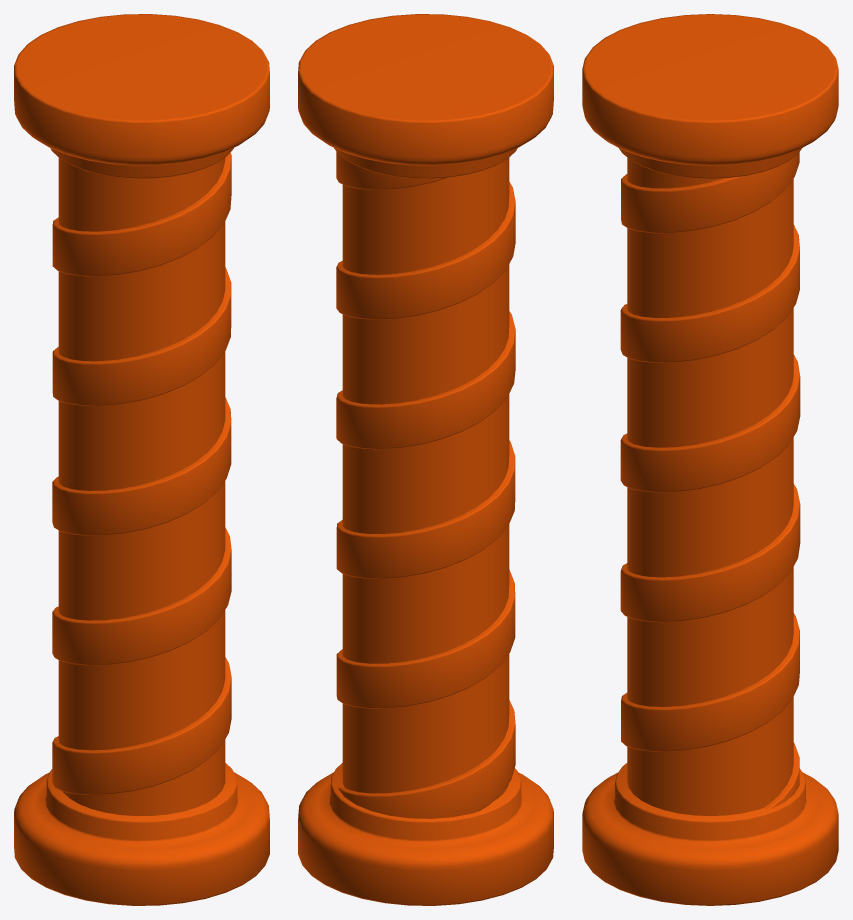
Rendered from SM_Pillar.fbx.
3 views of the same model, side by side, from view 1: azimuth 30°, elevation 25°; view 2: azimuth 150°, elevation 25°; view 3: azimuth 270°, elevation 25° (orthographic).
Parts seen in each view (by area): view 1: WoodModPillFull; view 2: WoodModPillFull; view 3: WoodModPillFull.
Part boxes in pixels (bbox=[...]): WoodModPillFull: bbox=[14, 14, 269, 905]; WoodModPillFull: bbox=[298, 14, 553, 905]; WoodModPillFull: bbox=[582, 14, 838, 905].
Size of the model in its own units: 192 by 192 by 648.
